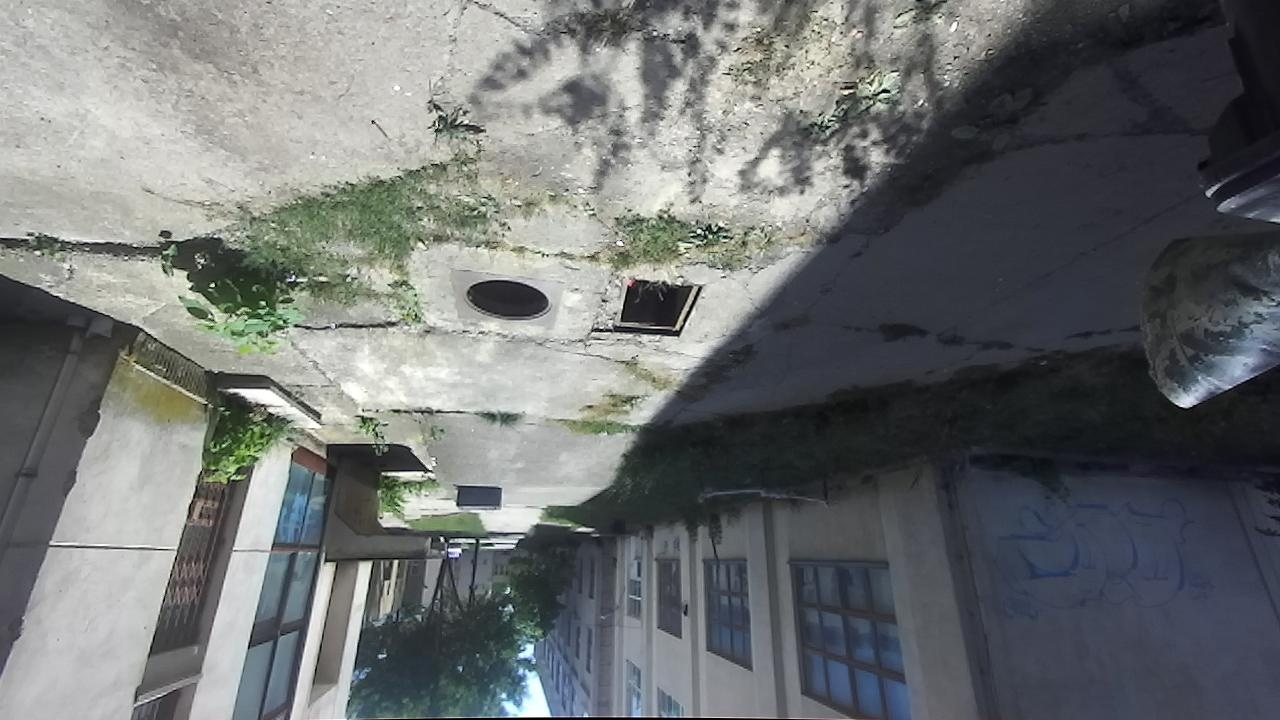drain: (608, 276, 709, 342), (461, 281, 558, 325)
